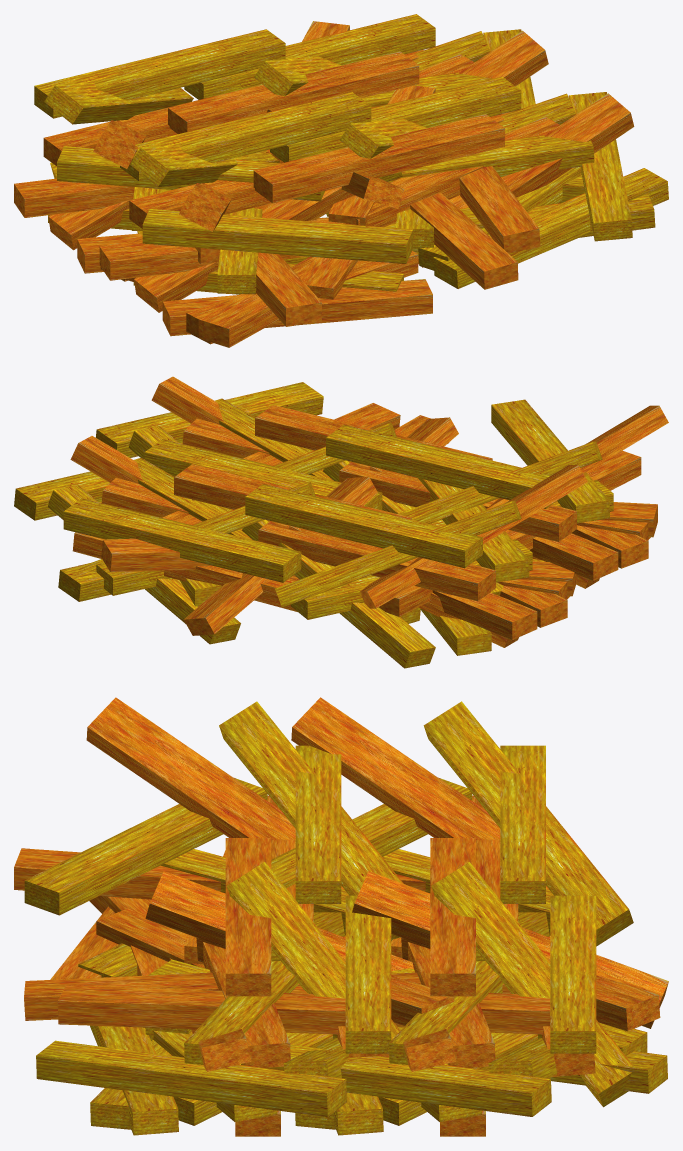
Rendered from poteto.FBX.
3 renders of one model, top to bottom at view 1: azimuth 30°, elevation 25°; view 2: azimuth 150°, elevation 25°; view 3: azimuth 270°, elevation 25°, orthographic. The views are drawn at different scales.
Visible parts, largest first — view 1: Box041, Box056, Box002, Box038, Box020, Box011, Box047, Box063, Box060, Box071, Box069, Box070 (+35 smaller); view 2: Box002, Box011, Box038, Box004, Box041, Box001, Box047, Box007, Box019, Box069, Box040, Box028 (+37 smaller); view 3: Box069, Box055, Box019, Box001, Box041, Box010, Box066, Box033, Box037, Box011, Box002, Box038 (+42 smaller).
Boxes of the visible parts, x1,y1,x2,y2 form: Box041: (142, 209, 412, 263); Box056: (253, 114, 504, 203); Box002: (34, 29, 285, 118); Box038: (120, 92, 371, 181); Box020: (168, 51, 419, 134); Box011: (184, 14, 435, 99); Box047: (270, 76, 521, 162); Box063: (162, 279, 432, 336); Box060: (410, 192, 518, 289); Box071: (433, 168, 668, 288); Box069: (568, 92, 632, 241); Box070: (418, 93, 634, 267); Box002: (245, 483, 482, 568); Box011: (63, 498, 301, 582); Box038: (326, 424, 557, 508); Box004: (258, 521, 495, 601); Box041: (491, 399, 609, 523); Box001: (275, 500, 521, 607); Box047: (144, 439, 382, 510); Box007: (242, 519, 435, 668); Box019: (360, 465, 587, 608); Box069: (95, 382, 323, 457); Box040: (339, 461, 576, 541); Box028: (183, 476, 377, 635); Box069: (36, 1040, 346, 1116); Box055: (86, 697, 343, 889); Box019: (291, 697, 548, 889); Box001: (423, 701, 633, 946); Box041: (24, 778, 267, 915); Box010: (431, 862, 633, 1107); Box066: (57, 985, 345, 1034); Box033: (241, 1044, 551, 1116); Box037: (219, 701, 403, 941); Box011: (550, 895, 596, 1053); Box002: (500, 745, 545, 903); Box038: (295, 745, 341, 903).
Bounding box in the file's own units: 17.51 × 15.79 × 5.3.
